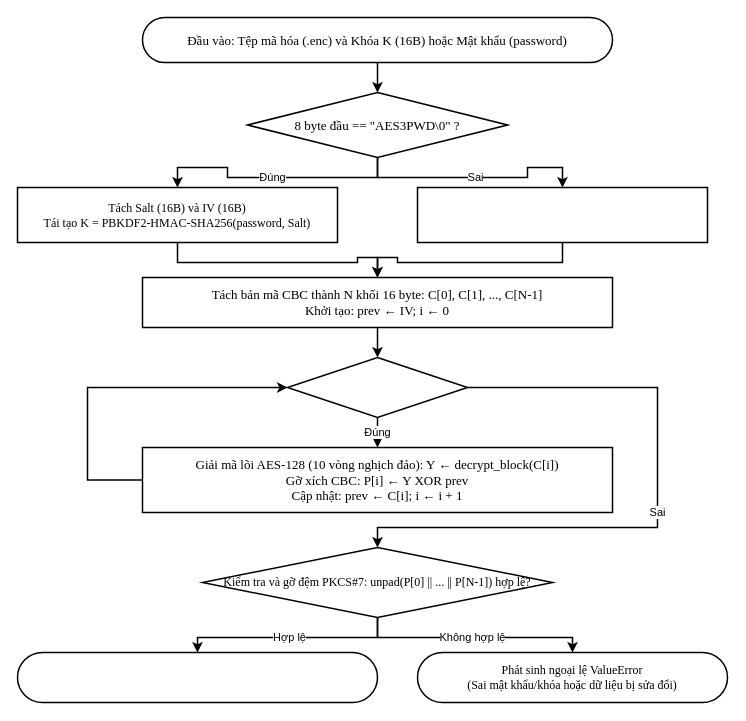
The diagram is 746 pixels wide and 721 high, and some of its shapes have lost their labels. The shapes that lost their labels are listed below. From the top down, each one's centre as x and y in pixels, then its label:
the point at 562,214: Tách IV (16B đầu tiên) Sử dụng trực tiếp khóa K (16B)
the point at 377,387: i < N ?
the point at 197,677: Ghi tệp khôi phục, tính SHA-256 và đối chiếu với SHA-256 gốc
